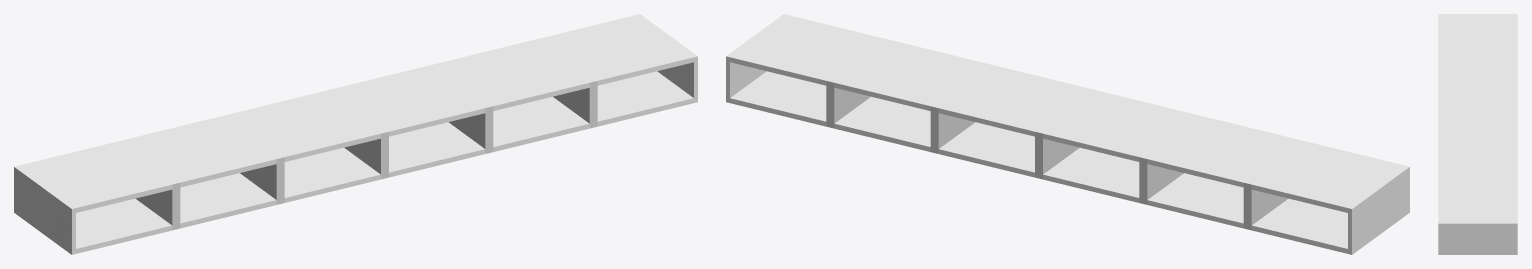
File: Prop_Shelve_10.fbx
3 views of the same model, side by side, from view 1: azimuth 30°, elevation 25°; view 2: azimuth 150°, elevation 25°; view 3: azimuth 270°, elevation 25° (orthographic). The views are drawn at different scales.
Parts seen in each view (by area): view 1: Prop_Shelve_10; view 2: Prop_Shelve_10; view 3: Prop_Shelve_10.
Boxes of the visible parts, x1,y1,x2,y2 form: Prop_Shelve_10: (14, 14, 697, 254); Prop_Shelve_10: (726, 14, 1409, 254); Prop_Shelve_10: (1438, 14, 1517, 254).
Bounding box in the file's own units: 187 × 13.11 × 29.93.
